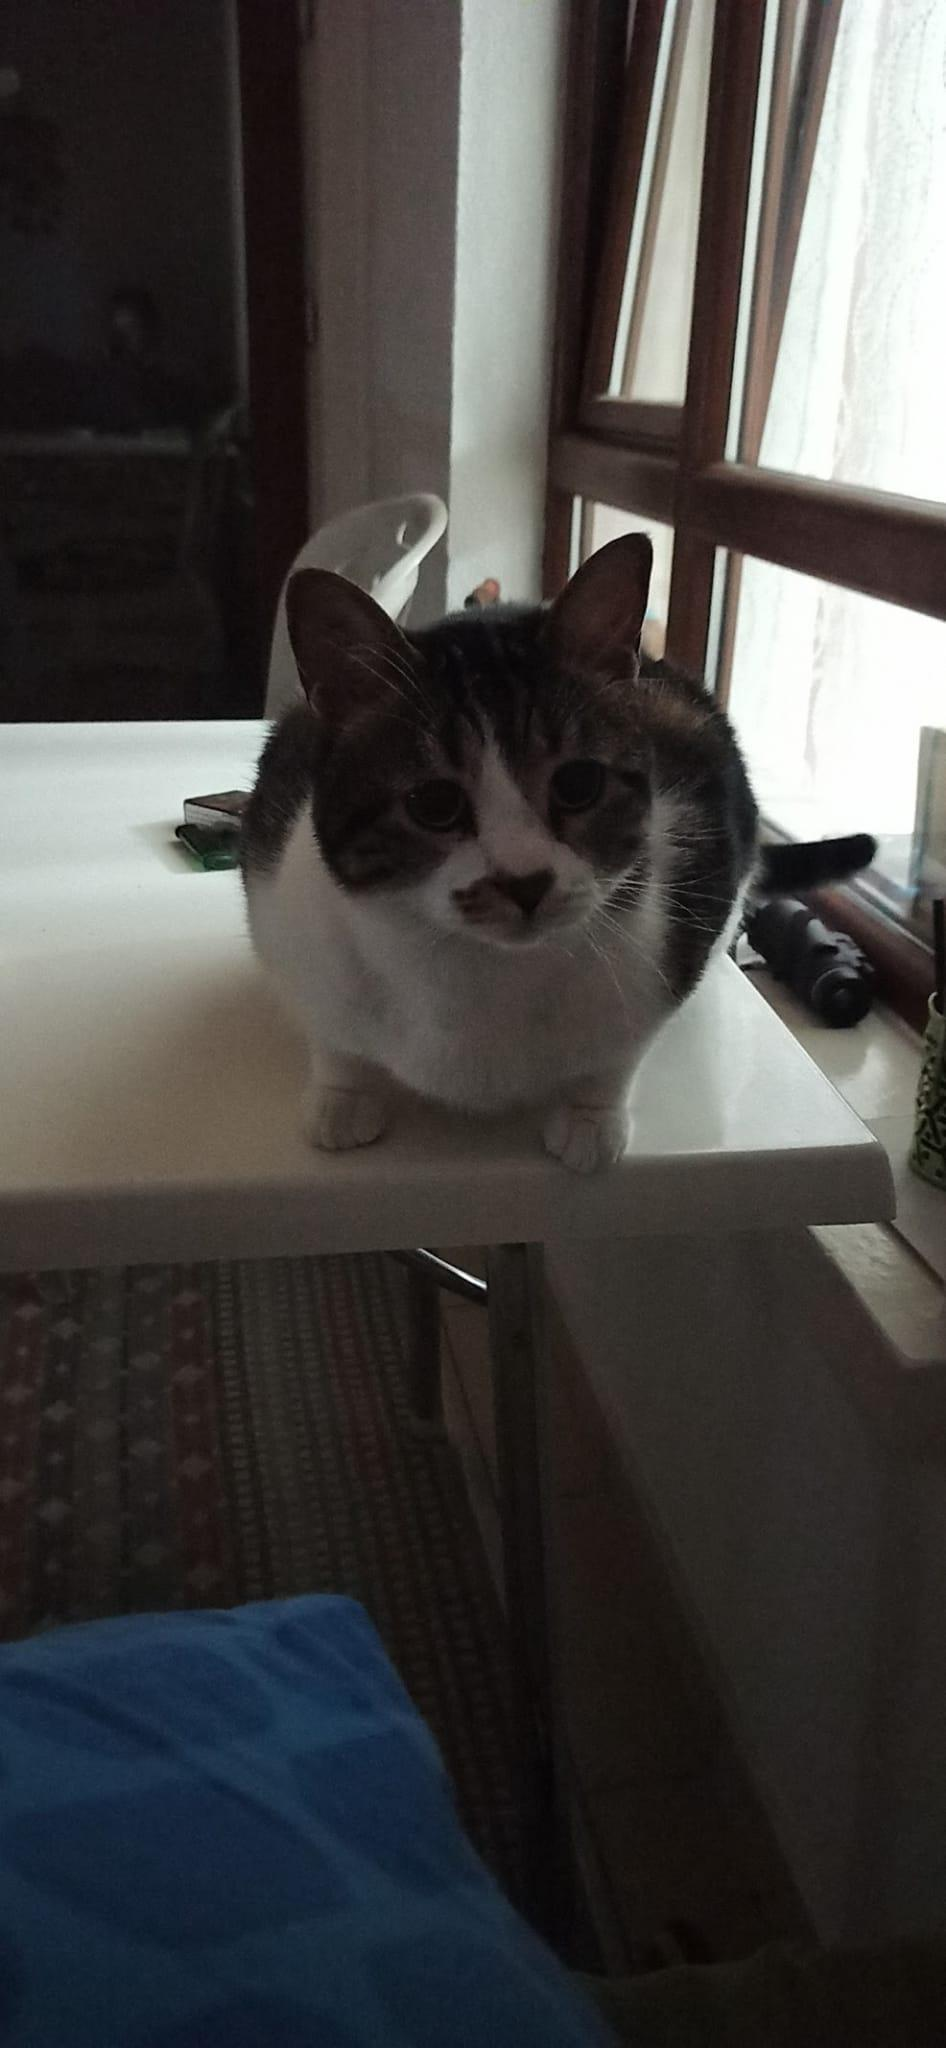kedo: (244, 532, 763, 1171)
